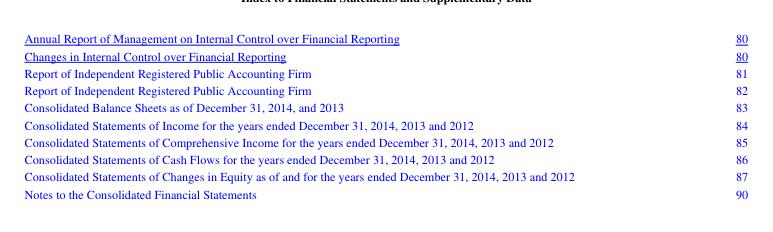table: (23, 29, 747, 200)
table column: (23, 29, 654, 200), (654, 29, 747, 200)
table row: (23, 97, 747, 115), (23, 166, 747, 184), (23, 29, 747, 46), (23, 46, 747, 63), (23, 63, 747, 80), (23, 80, 747, 97), (23, 115, 747, 132), (23, 132, 747, 149), (23, 149, 747, 166), (23, 184, 747, 200)
